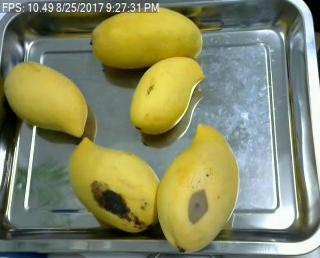Mango: (156, 122, 241, 253), (68, 136, 160, 230), (89, 6, 202, 70), (4, 60, 89, 137), (129, 55, 204, 134)
